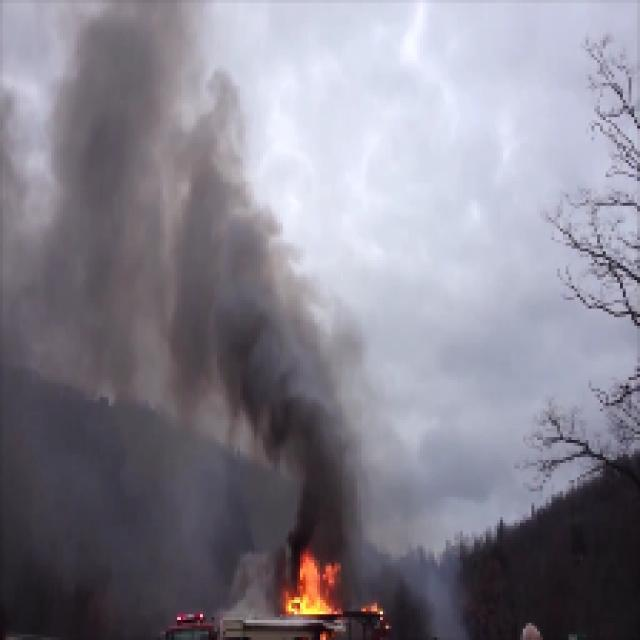Fire: (284, 552, 342, 622)
Smoke: (5, 2, 208, 608), (283, 309, 356, 533), (214, 168, 272, 428)
